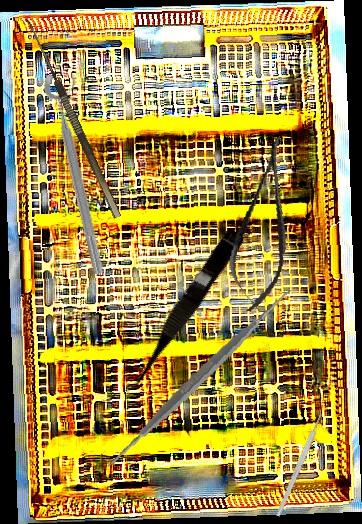Fixation Ring: (41, 69, 121, 277)
Hook Surgical: (15, 17, 122, 224)
Micro Scissor: (120, 225, 246, 395), (220, 131, 307, 317)
Scalpel Handle: (275, 412, 324, 518)
Spatula Surgical: (94, 271, 306, 485)
